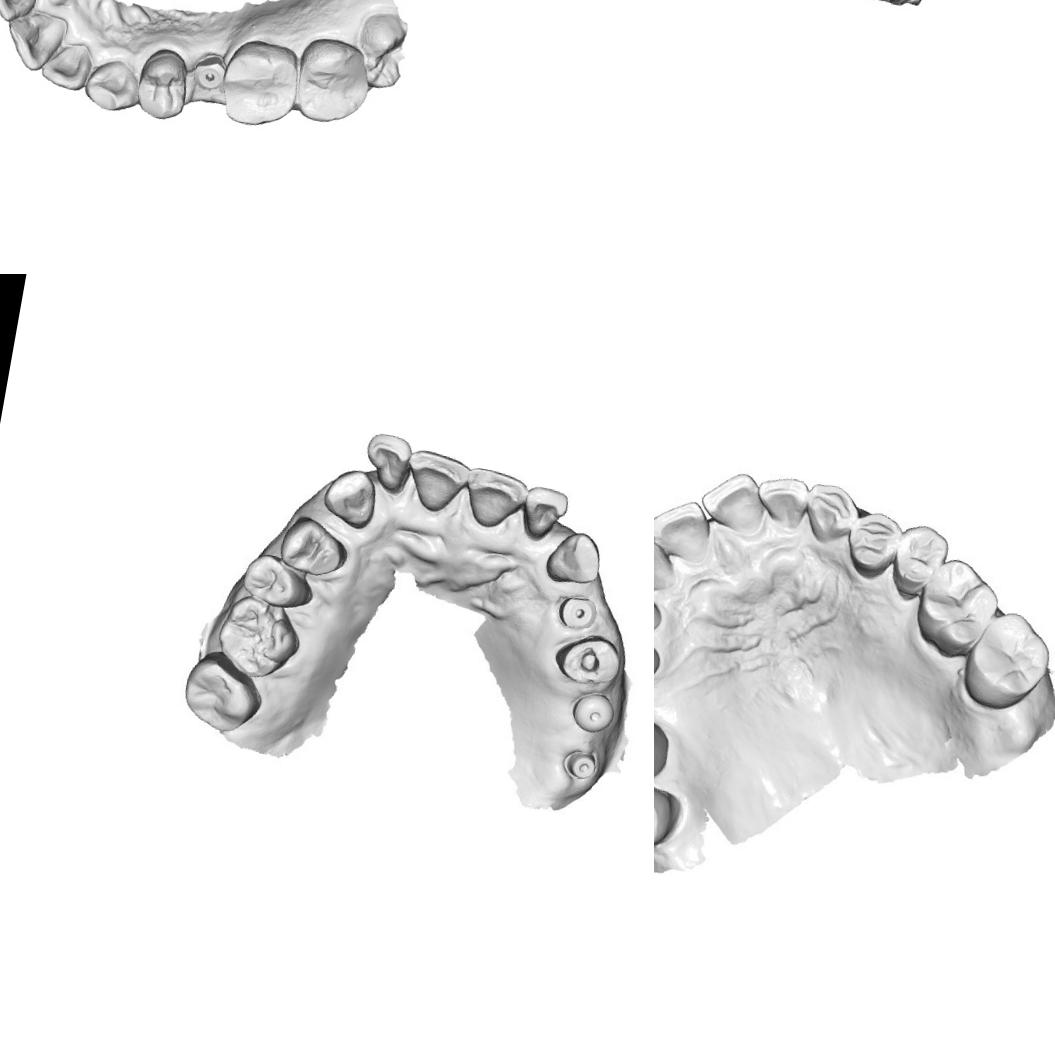canine: (540, 524, 606, 595), (799, 476, 863, 548), (316, 464, 381, 534), (80, 55, 144, 116)
implant: (569, 686, 616, 736), (555, 590, 599, 636), (562, 742, 600, 787), (189, 50, 228, 93)
incisor: (402, 444, 473, 516), (460, 461, 530, 534), (700, 470, 770, 539), (0, 7, 68, 75), (360, 427, 417, 494), (654, 497, 714, 560), (756, 472, 815, 533), (37, 36, 94, 94), (518, 480, 570, 543), (654, 537, 678, 595)
molar: (173, 643, 268, 737), (966, 610, 1055, 709), (216, 34, 304, 132), (211, 592, 306, 682), (914, 558, 1000, 657), (290, 32, 376, 129), (654, 772, 685, 858)
premolar: (236, 550, 320, 618), (884, 516, 949, 598), (279, 511, 351, 582), (842, 502, 902, 580), (133, 44, 192, 122), (550, 630, 625, 690)
